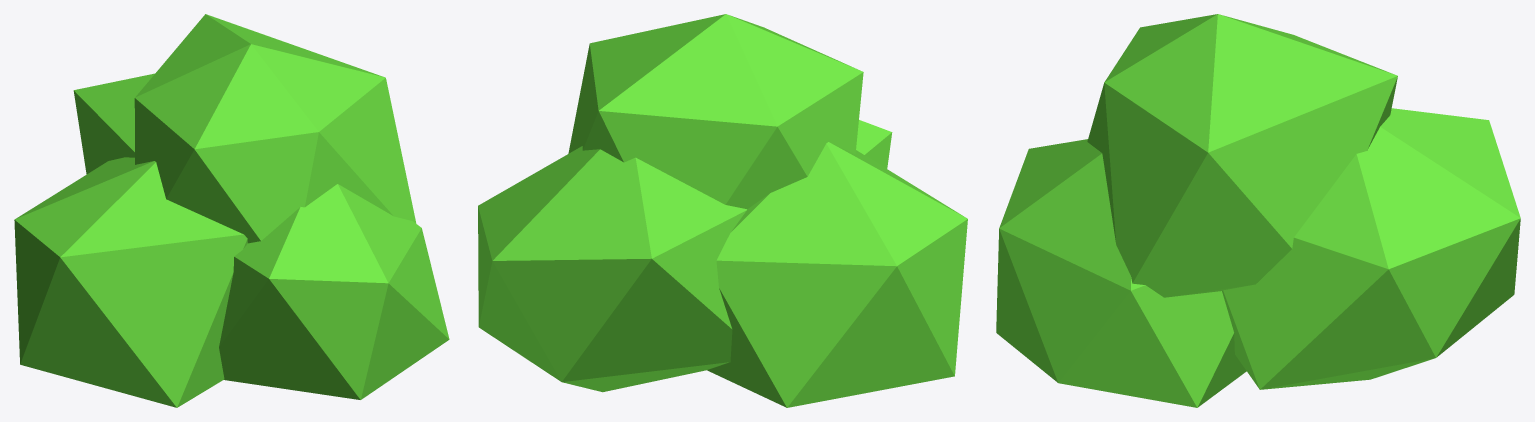
The model's file is bush1.fbx.
3 views of the same model, side by side, from view 1: azimuth 30°, elevation 25°; view 2: azimuth 150°, elevation 25°; view 3: azimuth 270°, elevation 25° (orthographic). The views are drawn at different scales.
Visible parts, largest first — view 1: Icosphere.013; view 2: Icosphere.013; view 3: Icosphere.013.
Part boxes in pixels (x1,y1,x2,y2): Icosphere.013: [14, 14, 449, 407]; Icosphere.013: [478, 14, 967, 407]; Icosphere.013: [996, 14, 1520, 407].
Bounding box in the file's own units: 267 × 216 × 295.
